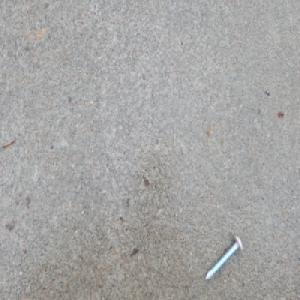Nail: (205, 233, 243, 283)
